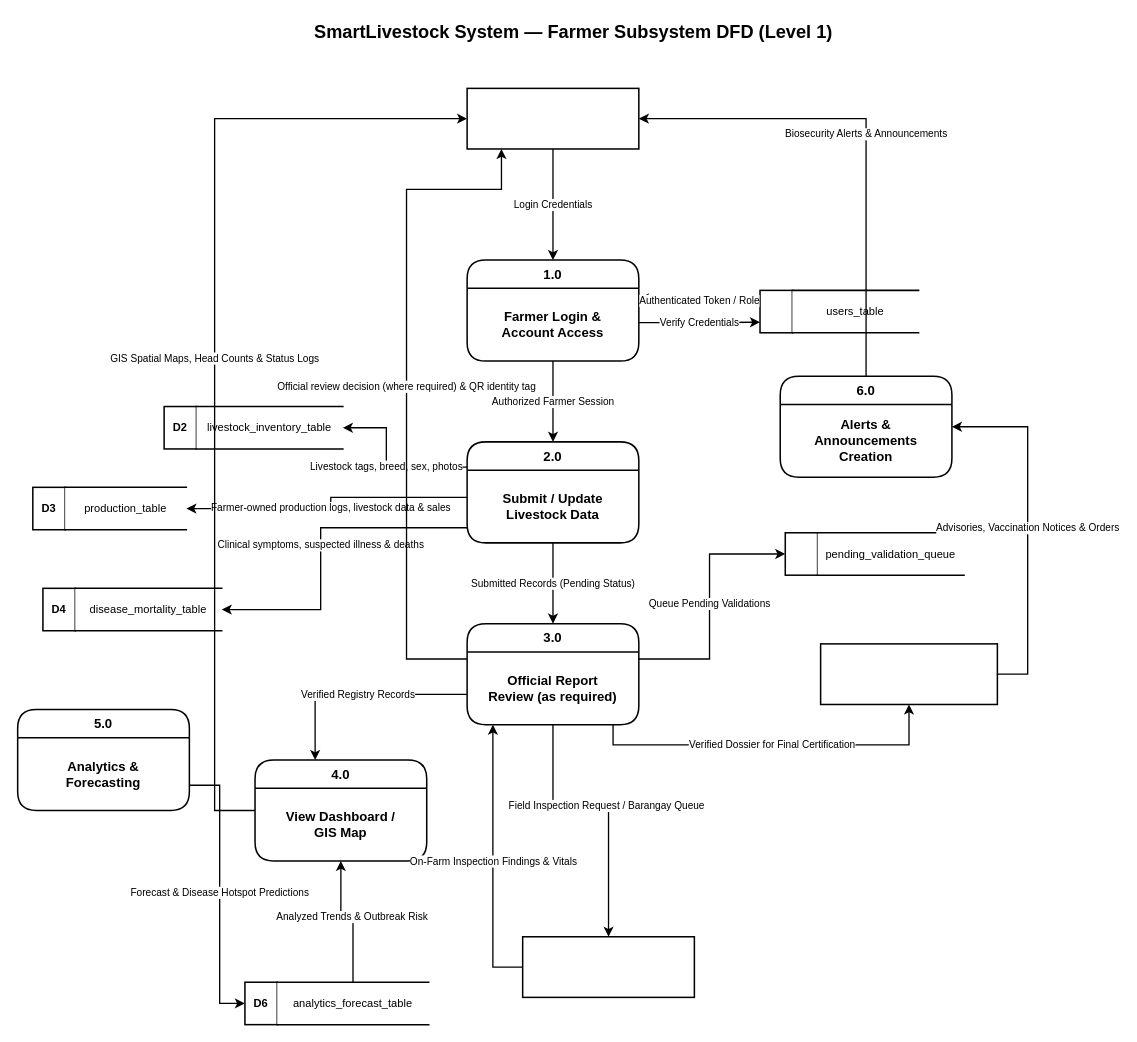
Image size: 1137x1042. Some labels were removed from this diagram. The box of each missing label's shape, as (x1, y1, x2, y2) in pixels:
ADMIN (Municipal Agriculture Office / MAO): (819, 643, 998, 705)
D1: (759, 289, 793, 333)
D5: (784, 532, 818, 575)
SIBAT / CBAT (Barangay Field Technicians): (521, 936, 695, 998)
USER (Farmer / Livestock Raiser): (466, 87, 639, 149)
